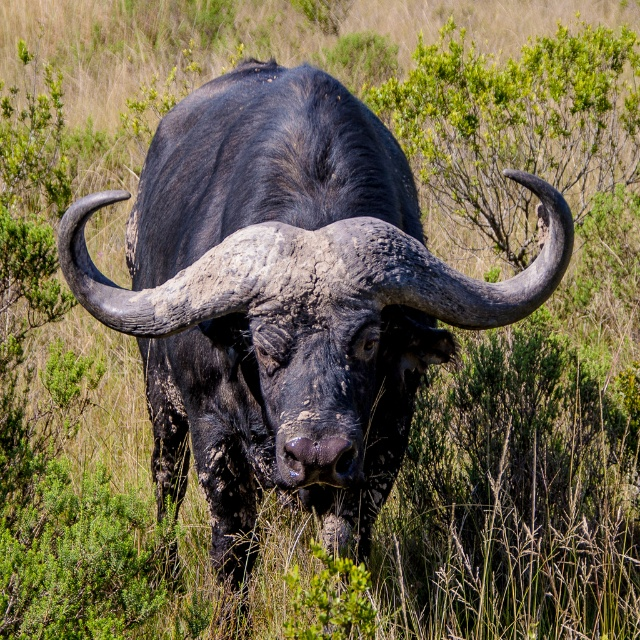Cattle: (57, 57, 574, 640)
